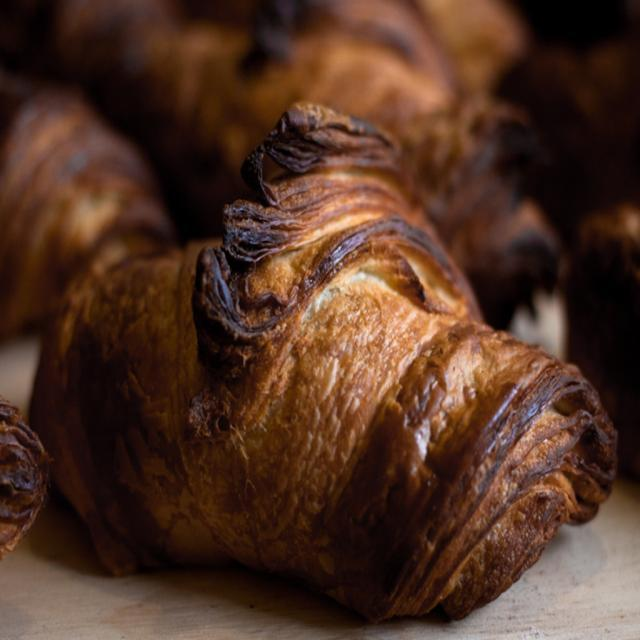Croissant: (26, 99, 615, 623), (57, 0, 566, 331), (0, 87, 178, 340), (0, 398, 54, 568)
